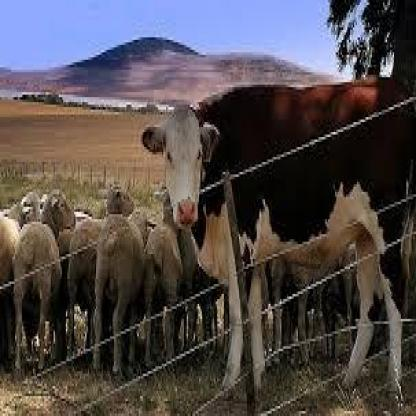cow: (143, 77, 416, 406)
